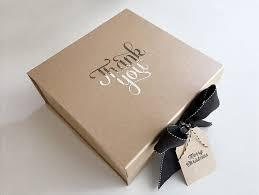box: (26, 7, 224, 187)
